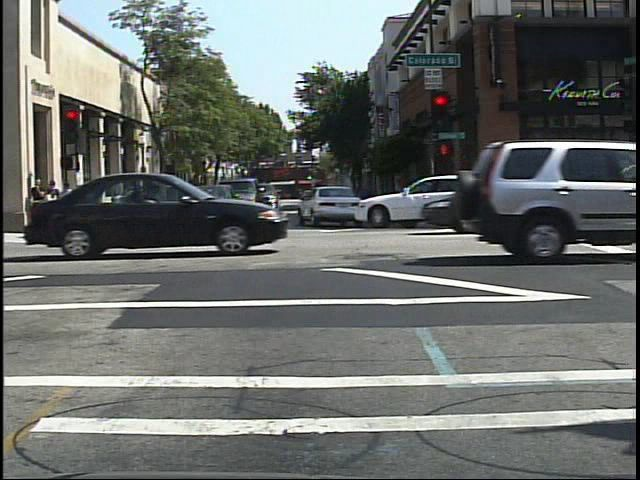person: (122, 181, 141, 224), (135, 181, 151, 218)
